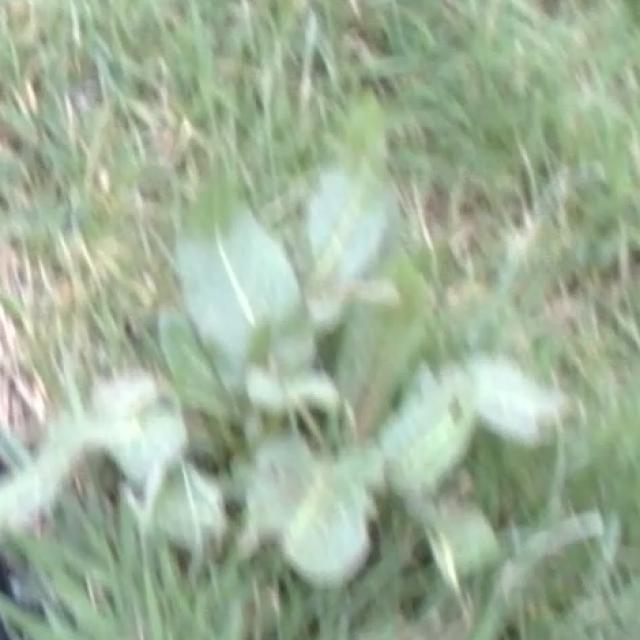organic waste: (45, 155, 562, 624)
